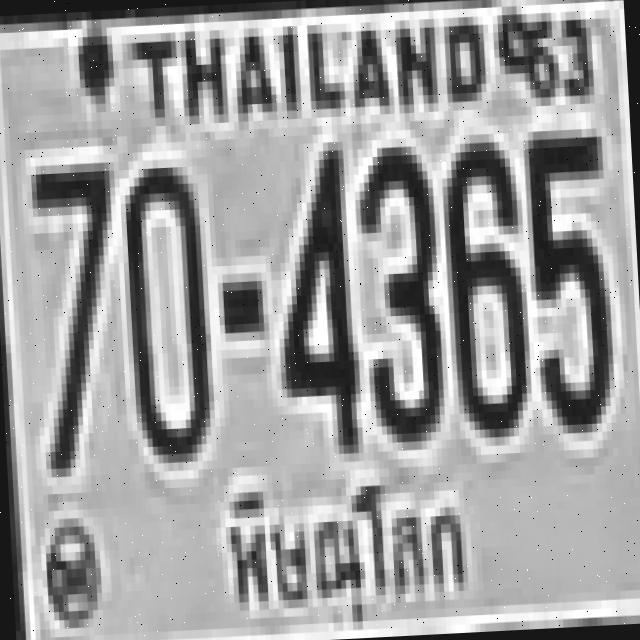0: (118, 158, 212, 456)
3: (352, 137, 441, 436)
4: (269, 138, 358, 444)
5: (522, 120, 612, 427)
6: (439, 133, 528, 431)
7: (28, 154, 122, 470)
Phitsanulok: (215, 458, 480, 638)
